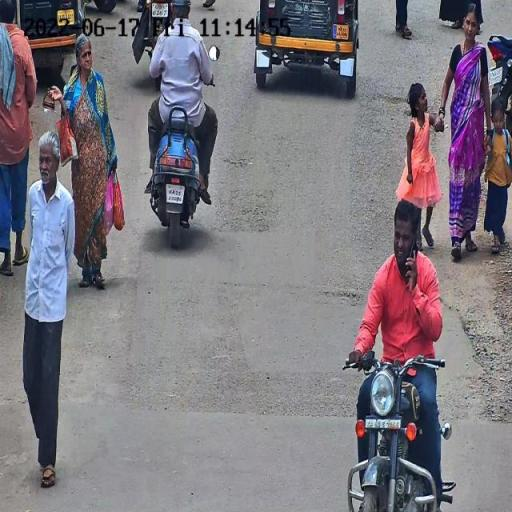using mobile: (388, 225, 428, 284)
